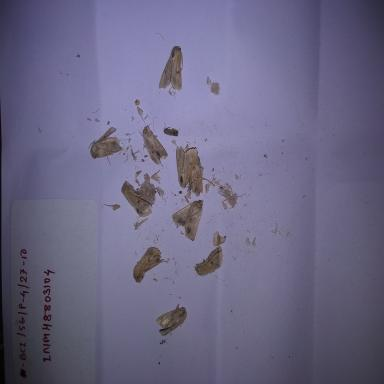abw: (156, 40, 200, 94), (170, 197, 213, 242), (191, 241, 230, 289), (156, 297, 195, 342), (132, 242, 166, 286), (88, 126, 124, 166), (120, 179, 157, 217), (141, 122, 169, 166), (176, 136, 198, 188), (187, 147, 208, 193), (162, 124, 182, 138)
